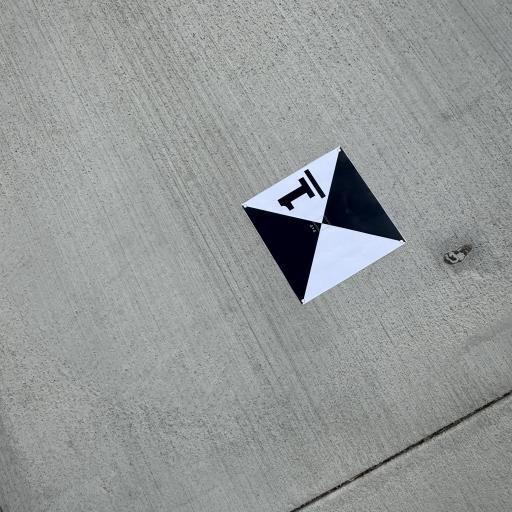target1: (238, 141, 410, 313)
